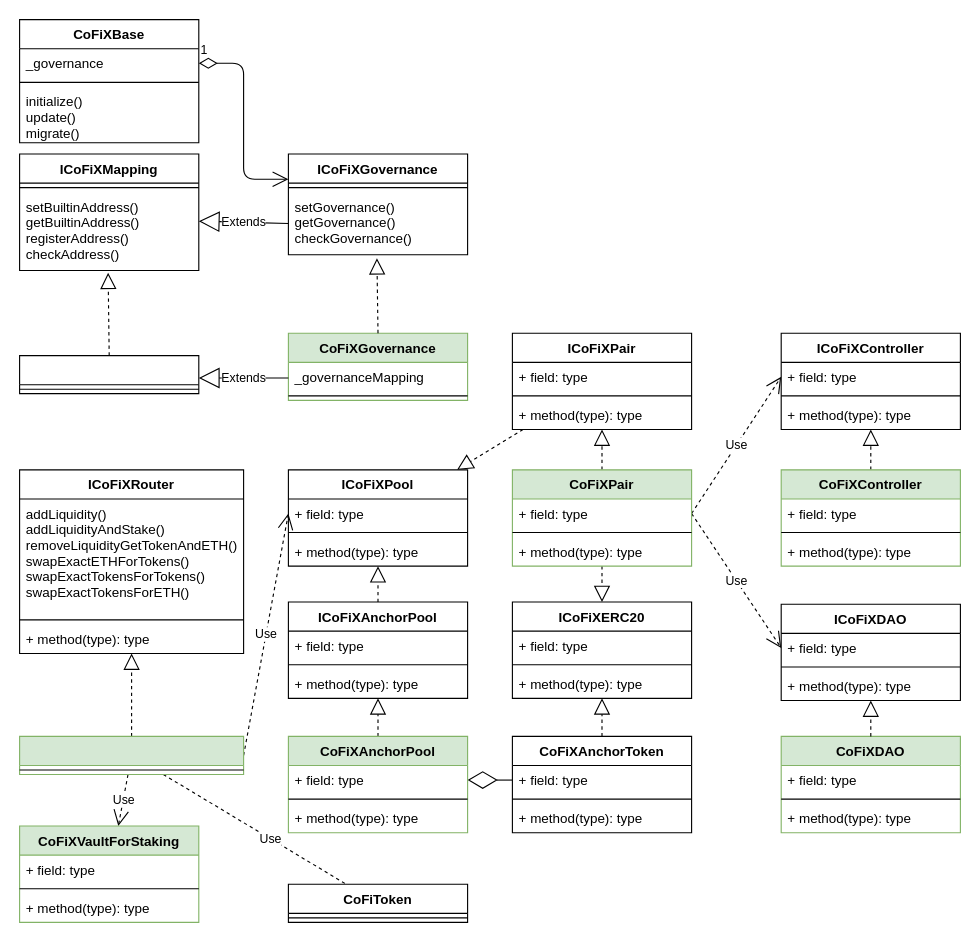
Image size: 980x945. Some labels were removed from this diagram. Each missing label, with the centre of its shape:
"CoFiXMapping" belongs at [108,374].
"CoFiXRouter" belongs at [131,754].
